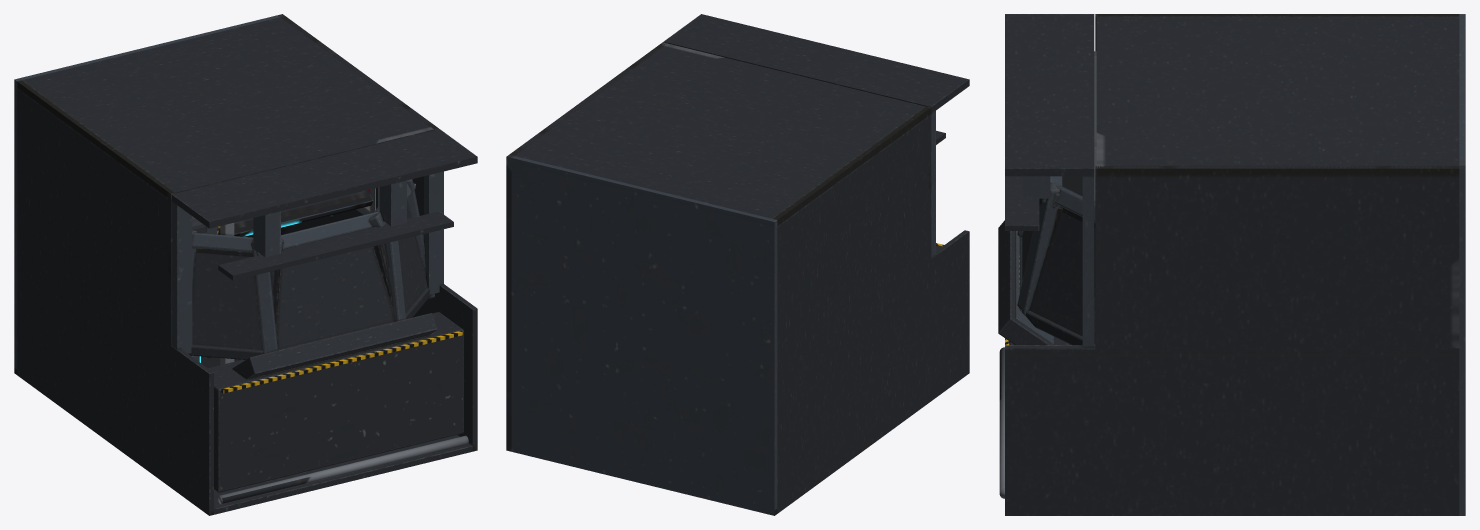
The model's file is cockpit_jockey.gltf.
3 renders of one model, left to right at view 1: azimuth 30°, elevation 25°; view 2: azimuth 150°, elevation 25°; view 3: azimuth 270°, elevation 25°, orthographic. The views are drawn at different scales.
Parts seen in each view (by area): view 1: pod_cabin, INNER_front_cabin, CONSOLE_front_front; view 2: pod_cabin, INNER_front_cabin; view 3: pod_cabin, INNER_front_cabin, CONSOLE_front_front.
Part boxes in pixels (left/top/right/bottom): pod_cabin: left=14, top=14, right=477, bottom=515; INNER_front_cabin: left=171, top=129, right=477, bottom=359; CONSOLE_front_front: left=208, top=312, right=463, bottom=492; pod_cabin: left=506, top=42, right=969, bottom=515; INNER_front_cabin: left=663, top=14, right=969, bottom=258; pod_cabin: left=999, top=14, right=1465, bottom=515; INNER_front_cabin: left=1005, top=14, right=1095, bottom=347; CONSOLE_front_front: left=998, top=220, right=1071, bottom=345.
Size of the model in its own units: 1.7 by 1.78 by 2.17.
5 materials, 4 textured.
